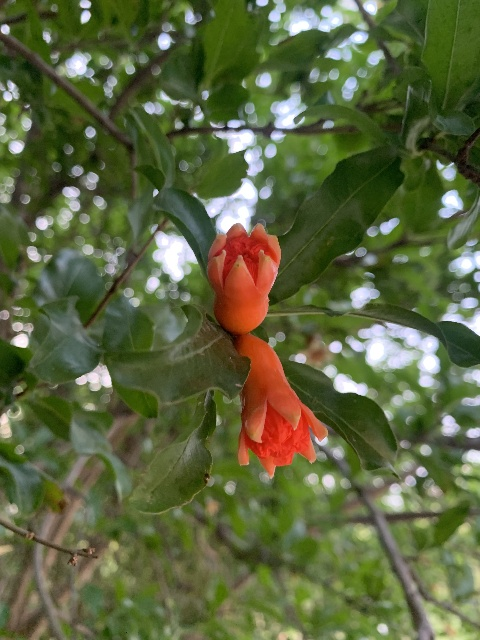flower: (234, 332, 326, 478), (206, 221, 281, 335)
